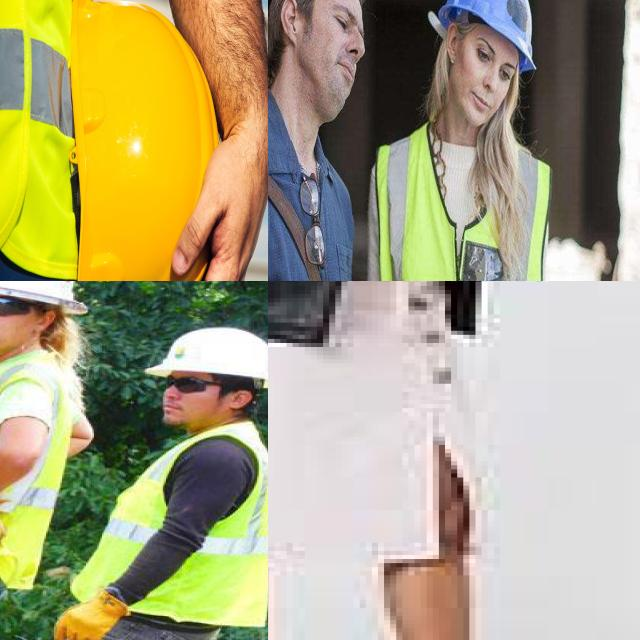No_Ear-Protection: (279, 0, 302, 52), (444, 19, 464, 70)
No_Glasses: (469, 33, 514, 88), (327, 0, 355, 41)
face_nomask: (307, 0, 368, 132), (140, 372, 250, 436), (454, 24, 520, 128), (0, 292, 46, 357)
glasses: (157, 368, 210, 396), (0, 285, 36, 320)
hand_glove: (57, 588, 135, 640), (0, 484, 23, 567)
hand_noglove: (149, 89, 268, 281)
head_helmet: (68, 0, 223, 281), (440, 0, 537, 74), (153, 325, 268, 383), (0, 281, 105, 312)
person: (366, 0, 587, 281), (83, 321, 268, 640), (268, 0, 383, 281), (0, 281, 75, 640)
vest: (84, 431, 266, 631), (0, 0, 112, 281), (377, 126, 552, 281), (0, 354, 58, 572)
